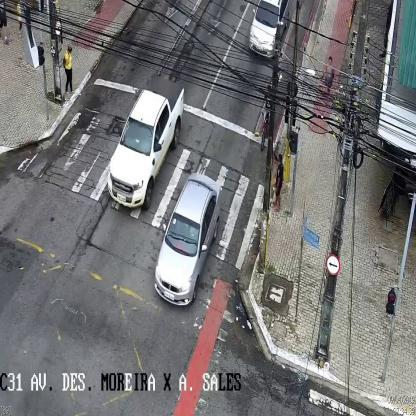car: (107, 76, 184, 210), (154, 171, 219, 309), (248, 0, 288, 58)
person: (272, 154, 284, 212), (322, 57, 334, 110), (62, 43, 74, 93)
